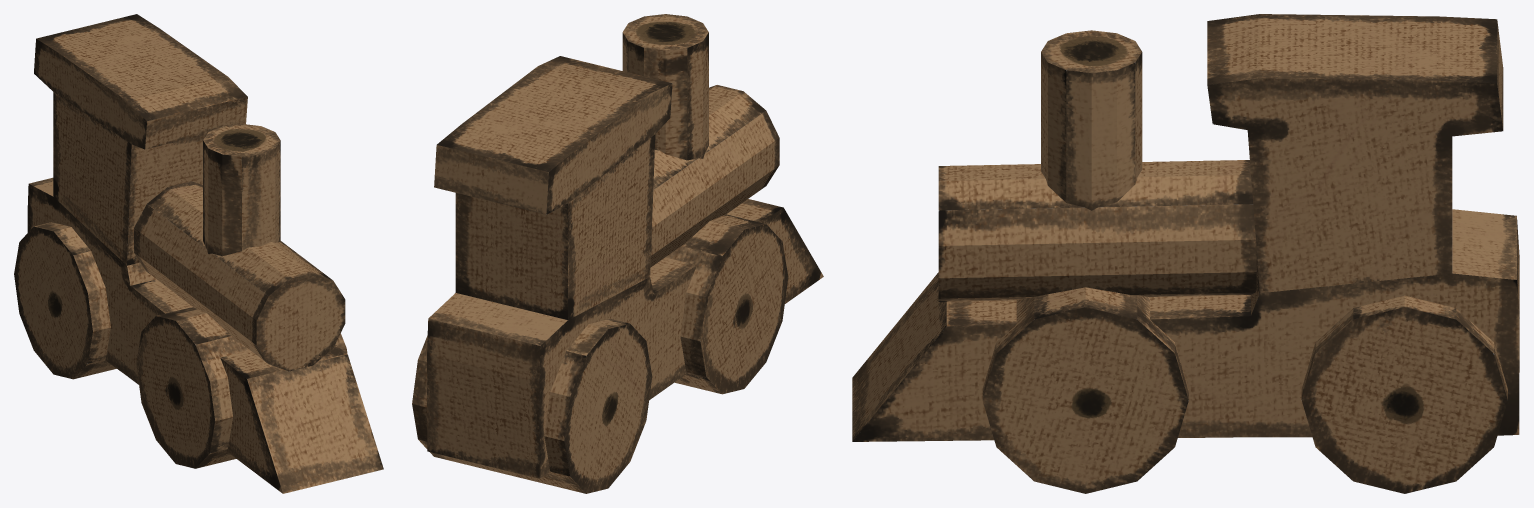
The model's file is Toytrain.fbx.
3 renders of one model, left to right at view 1: azimuth 30°, elevation 25°; view 2: azimuth 150°, elevation 25°; view 3: azimuth 270°, elevation 25°, orthographic. The views are drawn at different scales.
Parts seen in each view (by area): view 1: Cube; view 2: Cube; view 3: Cube.
Boxes of the visible parts, bbox=[...] form: Cube: bbox=[14, 14, 383, 493]; Cube: bbox=[412, 14, 823, 493]; Cube: bbox=[852, 14, 1519, 493].
Size of the model in its own units: 4.7 by 10.16 by 15.2.
Materials: 1 (1 with a texture image).
